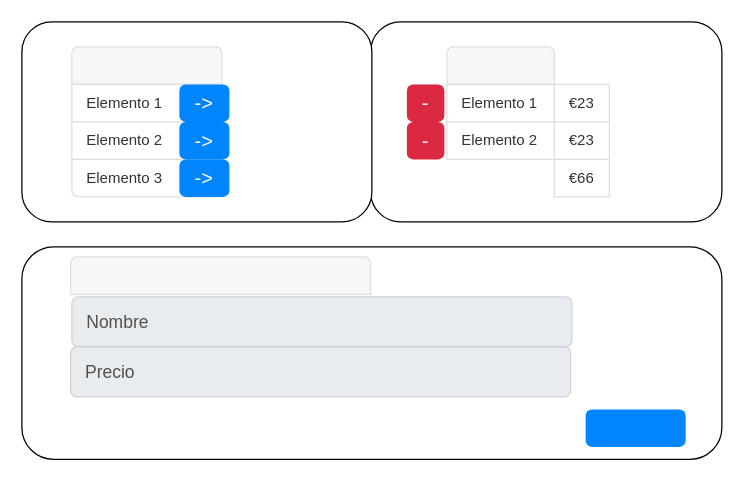
Image size: 744x481. Some labels were removed from this diagram. Each missing label, with the centre of its shape:
"A comprar" belongs at point (146, 65).
"Add" belongs at point (635, 427).
"Añadir elemento" belongs at point (220, 275).
"Carrito" belongs at point (500, 65).
